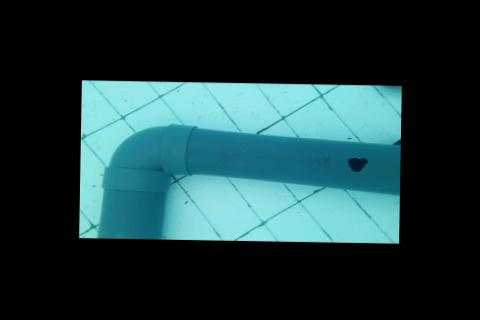kebocoran: (345, 155, 369, 172)
